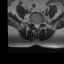CCS_normal: (36, 21, 37, 29)
LFS_stenosis: (39, 21, 41, 26)
LLS_normal: (37, 22, 39, 28)
RFS_normal: (32, 20, 34, 26)
RLS_normal: (34, 21, 36, 28)
